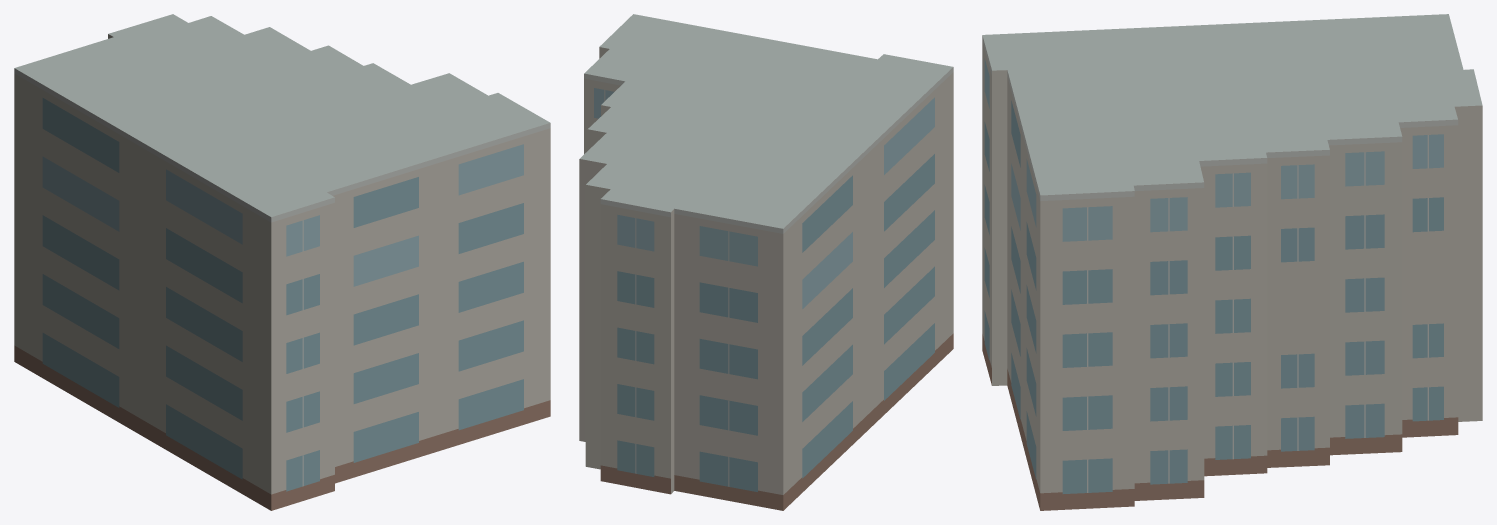
The model's file is survey-upis-32655545.glb.
The picture shows the model from 3 angles, left to right: view 1: azimuth 30°, elevation 25°; view 2: azimuth 150°, elevation 25°; view 3: azimuth 270°, elevation 25°; orthographic projection. The views are drawn at different scales.
Visible parts, largest first — view 1: survey-upis-32655545.tmp; view 2: survey-upis-32655545.tmp; view 3: survey-upis-32655545.tmp.
Boxes of the visible parts, bbox=[...] form: survey-upis-32655545.tmp: bbox=[14, 14, 550, 510]; survey-upis-32655545.tmp: bbox=[579, 14, 953, 510]; survey-upis-32655545.tmp: bbox=[982, 14, 1482, 510].
Bounding box in the file's own units: 16.67 × 13.5 × 19.41.
